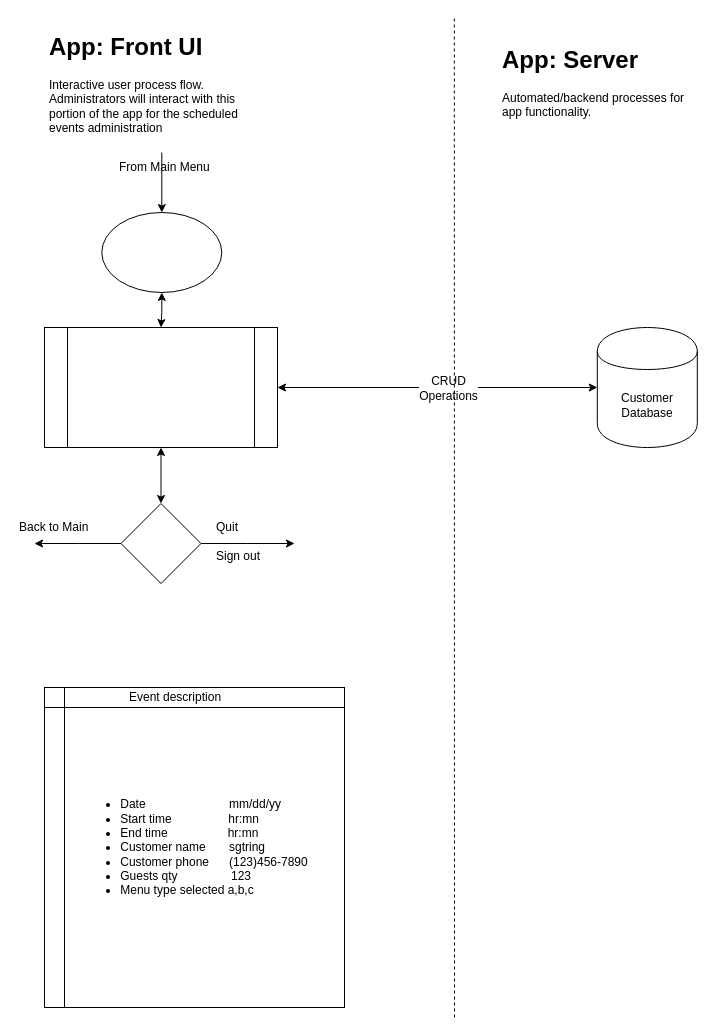
The diagram is 715 pixels wide and 1036 high, and some of its shapes have lost their labels. Each missing label, with the box of its shape:
Month Scheduled Events view: (44, 326, 278, 448)
Start: (101, 212, 222, 292)
